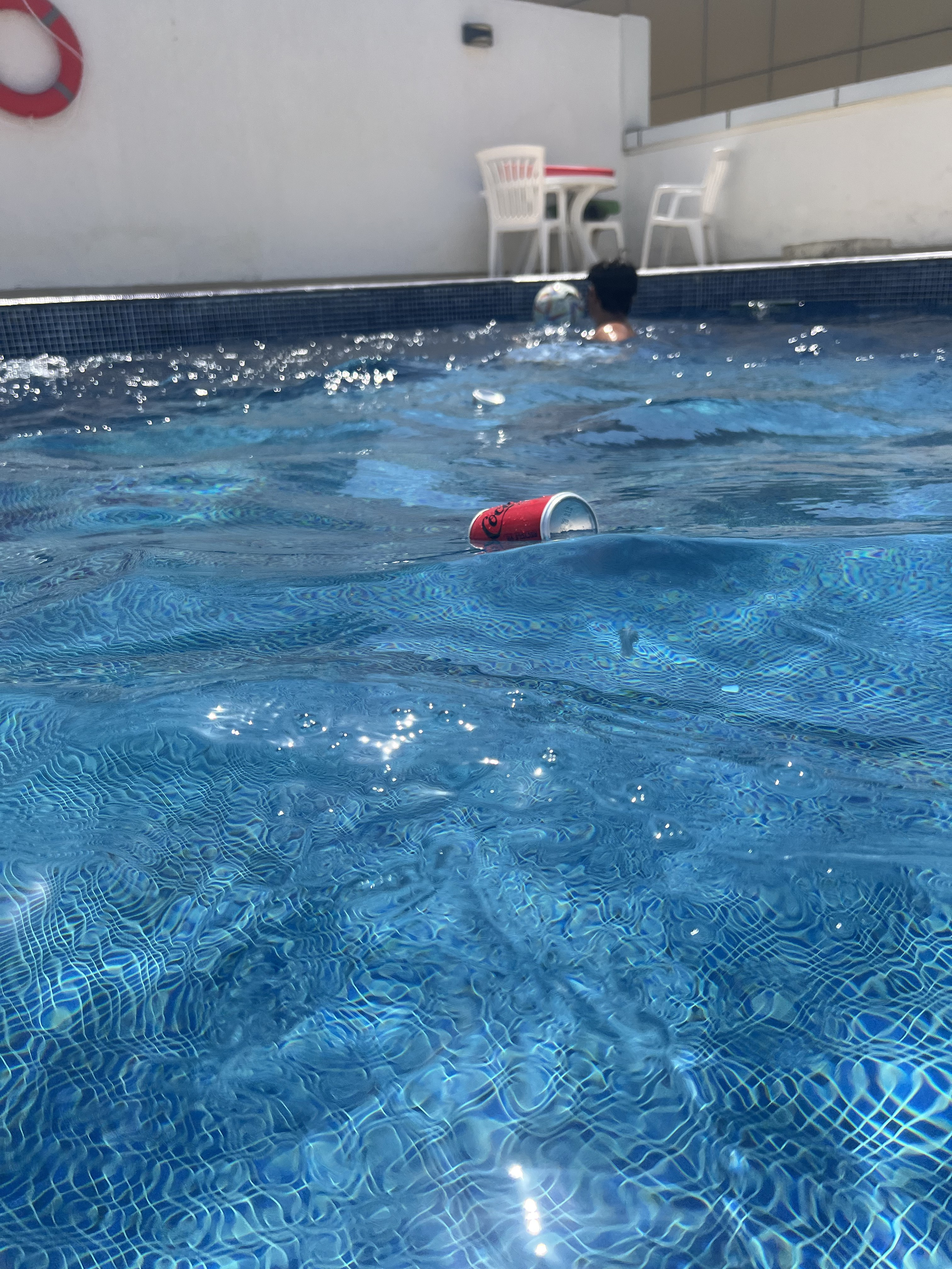debris: (469, 482, 598, 578)
